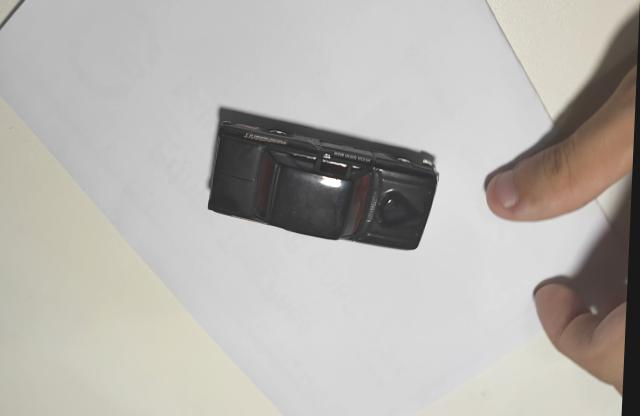01_FORD: (210, 106, 439, 250)
